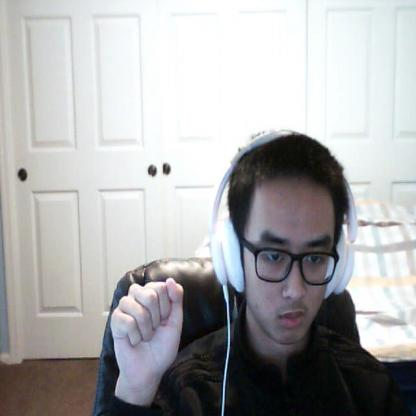fist: (108, 276, 186, 378)
